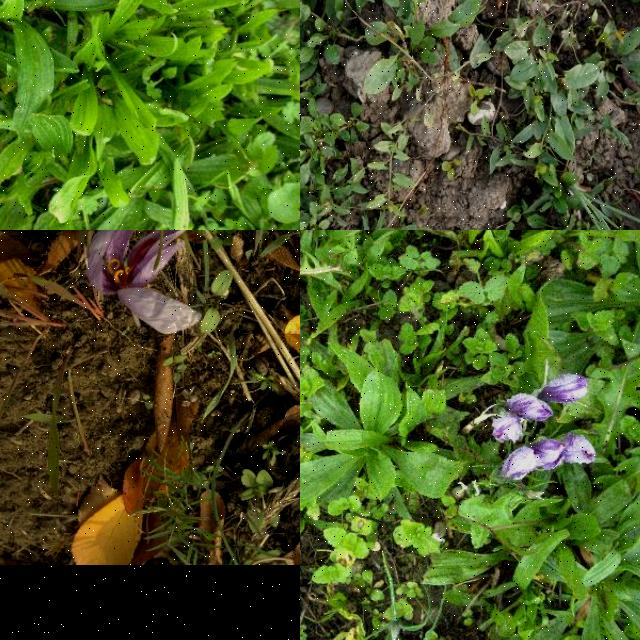flower: (87, 230, 199, 334), (504, 394, 554, 422), (544, 374, 588, 401), (492, 412, 524, 444)
overlap: (502, 432, 598, 480)
